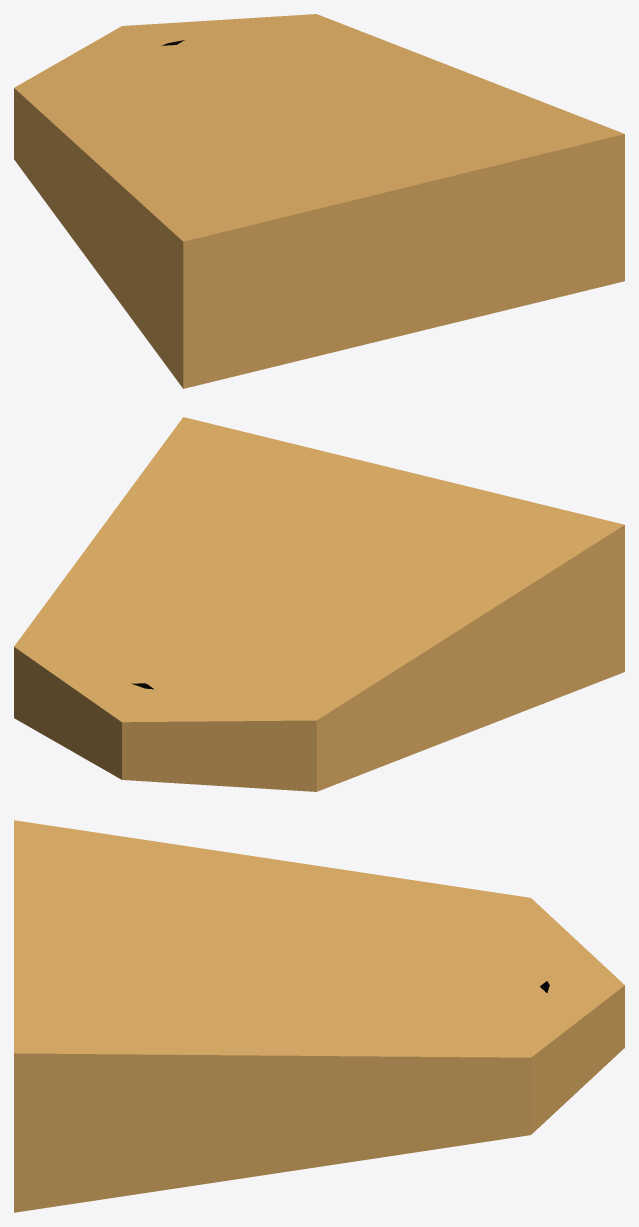
Rendered from Kaku.fbx.
3 views of the same model, one above another, from view 1: azimuth 30°, elevation 25°; view 2: azimuth 150°, elevation 25°; view 3: azimuth 270°, elevation 25° (orthographic). The views are drawn at different scales.
Parts seen in each view (by area): view 1: kaku; view 2: kaku; view 3: kaku.
Part boxes in pixels (bbox=[...]): kaku: bbox=[14, 14, 624, 388]; kaku: bbox=[14, 417, 624, 791]; kaku: bbox=[14, 820, 624, 1212].
Bounding box in the file's own units: 0.702 × 0.2236 × 0.777.
